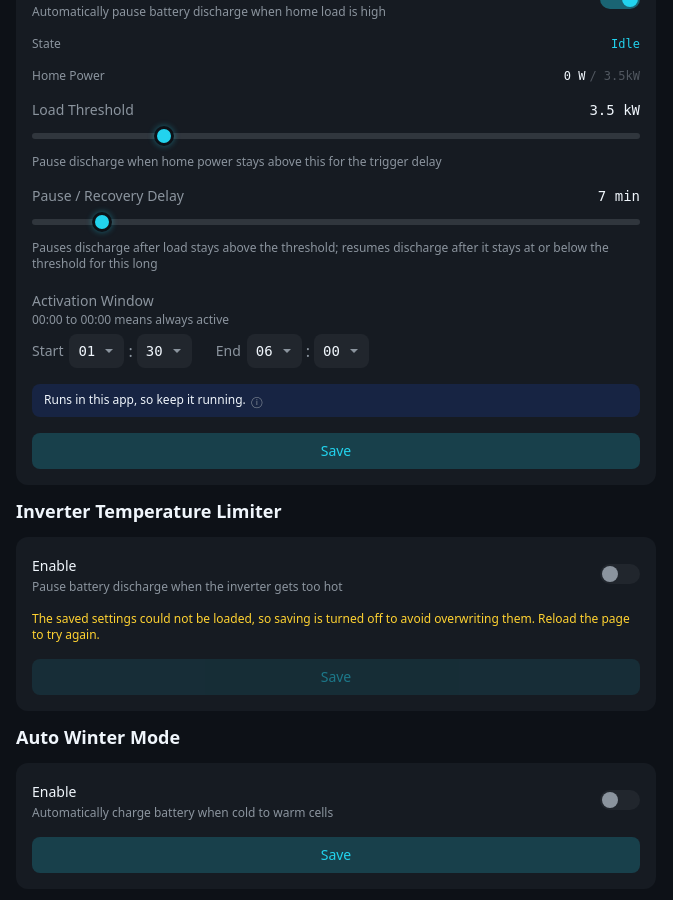
it: <ControlPage/> — Load Discharge Limiter save › posts the loaded configuration
(page scrolled)
Expected: the text "7 min" is shown, [598,186,640,206]
Click the button "Save" below "Runs in this app, so keep it running." at (336, 451), box [32,433,640,469]
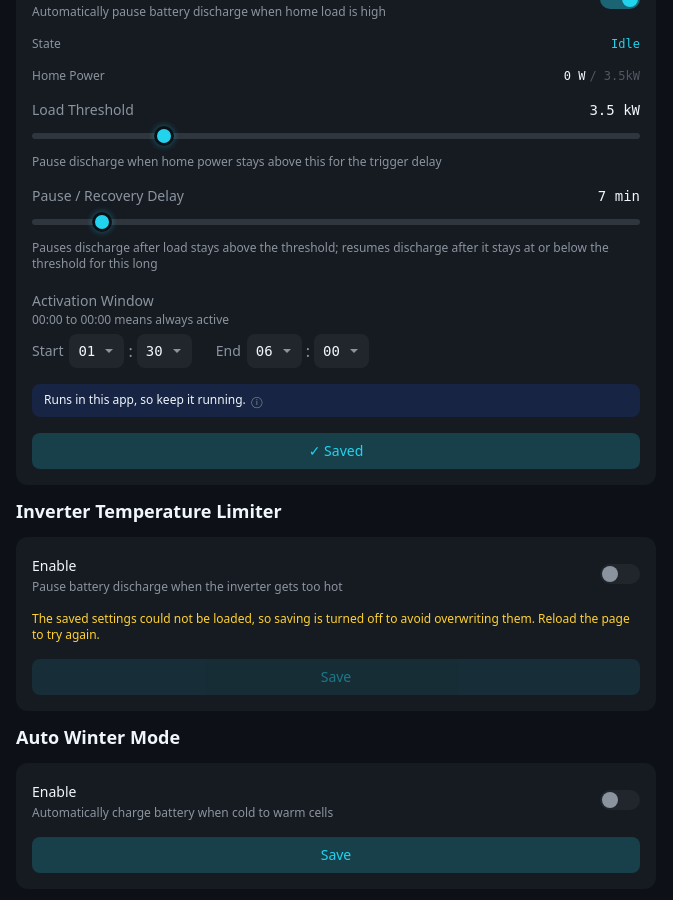
Result: the button "✓ Saved" is shown at [32,433,640,469]
